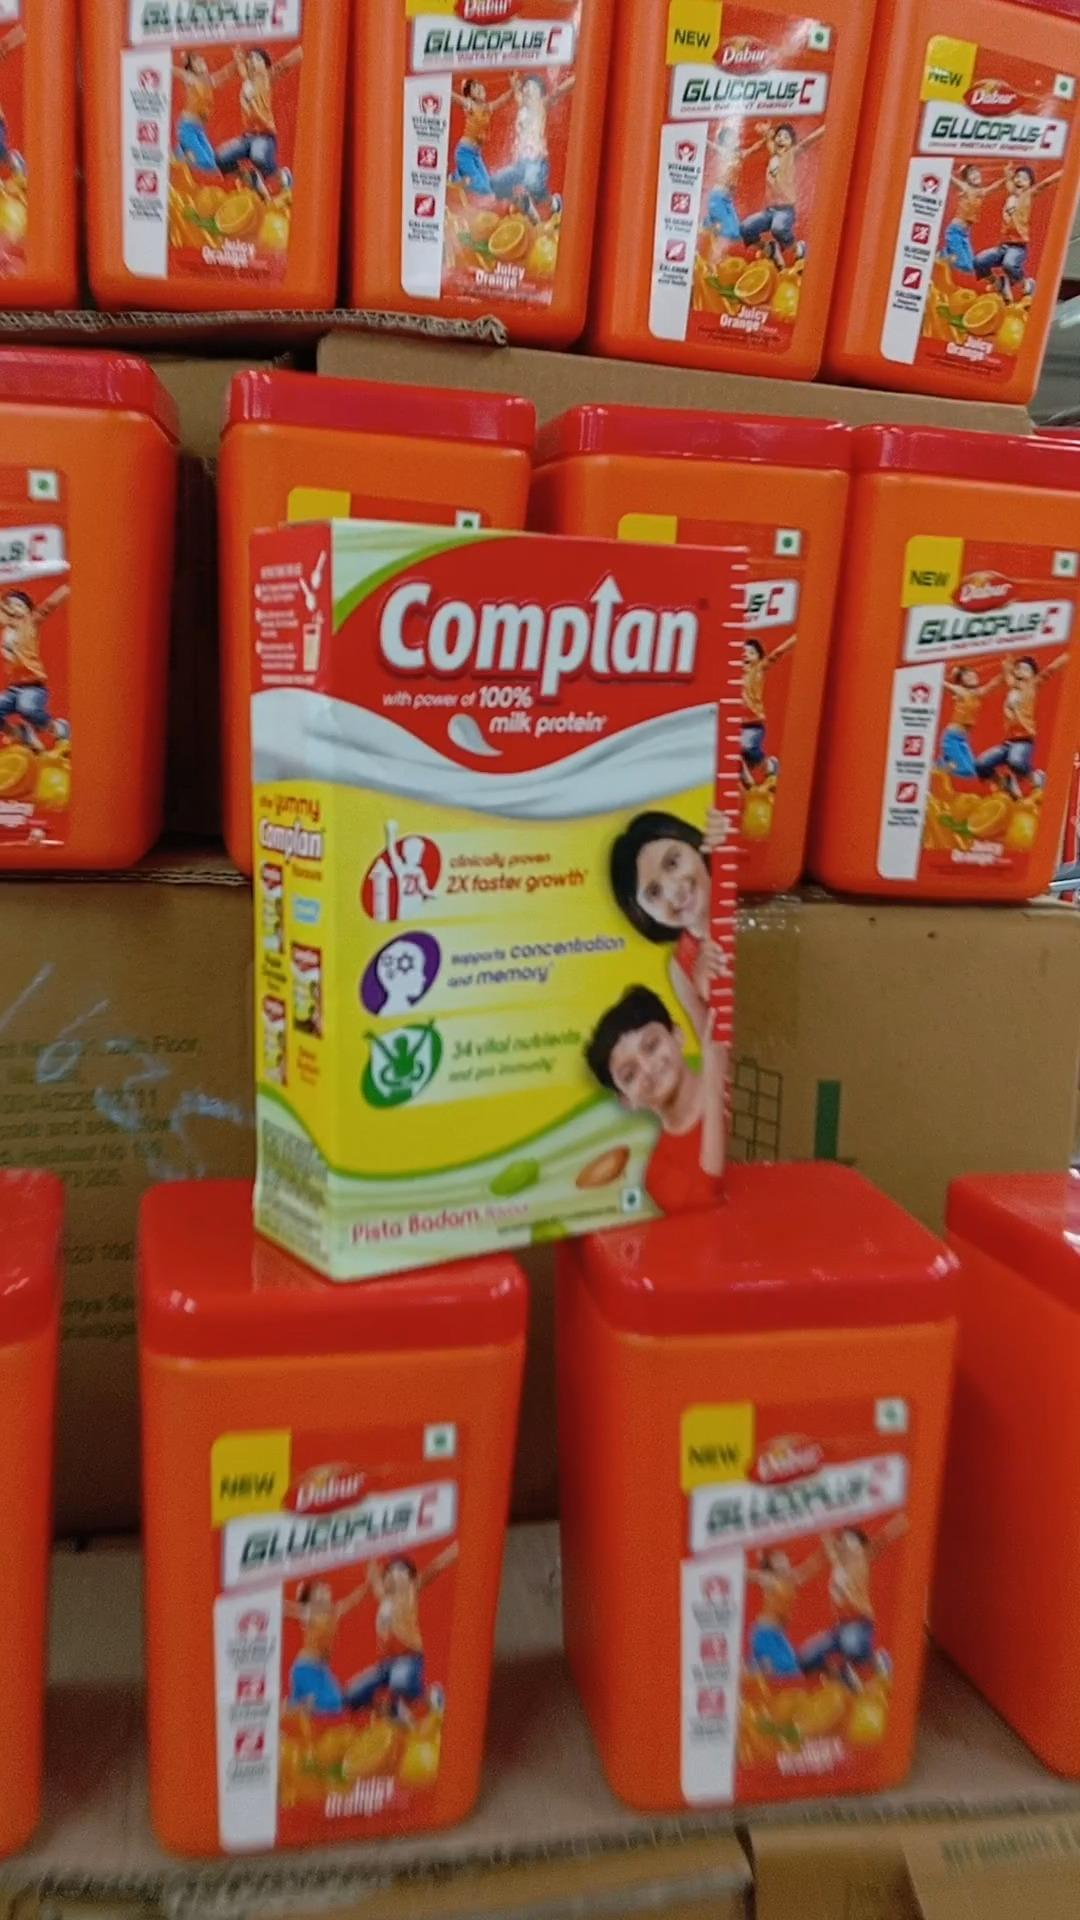COMPLAN_PISTA_BADAM_500_GMS_PACK: (339, 521, 736, 1189)
